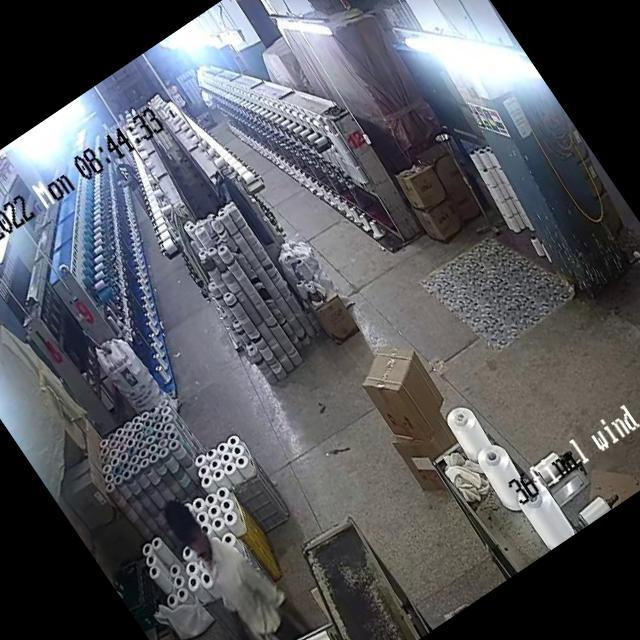person: (156, 475, 310, 640), (111, 160, 159, 217), (162, 77, 196, 119)
